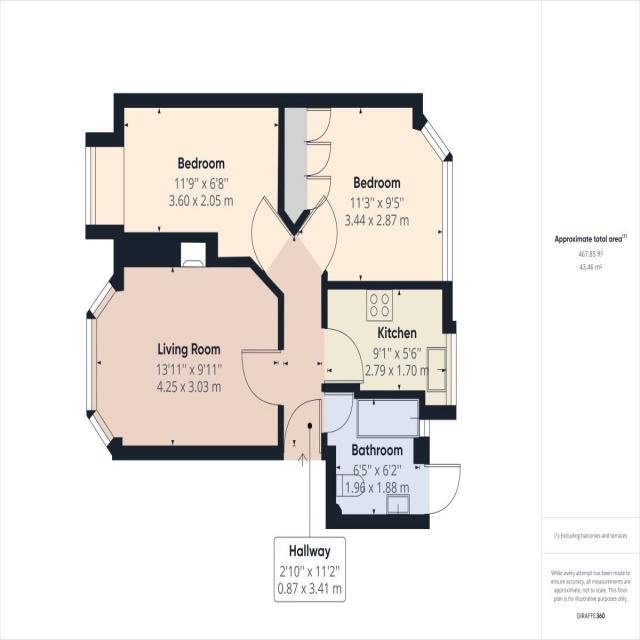DOOR: (294, 193, 339, 278), (249, 192, 294, 276), (239, 347, 285, 410), (413, 462, 462, 516), (320, 326, 365, 384), (283, 398, 322, 462), (321, 393, 355, 435)
ROOM: (85, 232, 285, 461), (85, 93, 300, 283), (277, 92, 453, 290), (321, 280, 457, 420)
WINDOW: (441, 160, 453, 282), (84, 317, 99, 413), (419, 118, 451, 163), (87, 278, 118, 322), (88, 407, 116, 450), (84, 145, 98, 228), (445, 332, 457, 407)
